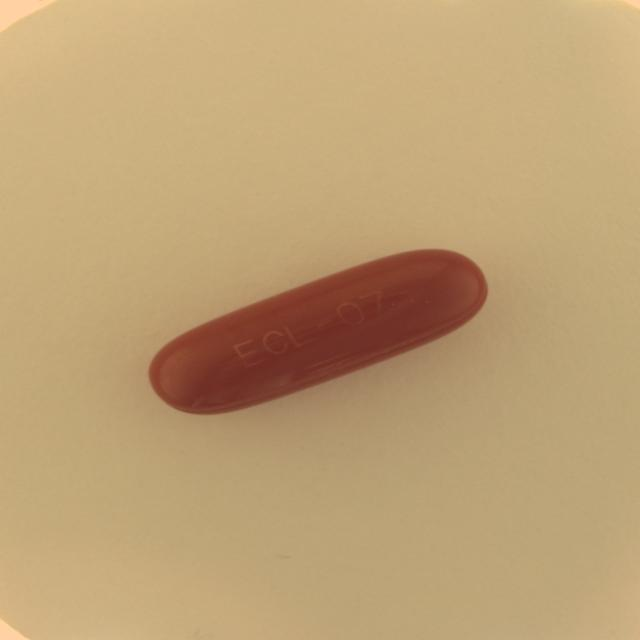Oval: (140, 244, 495, 419)
